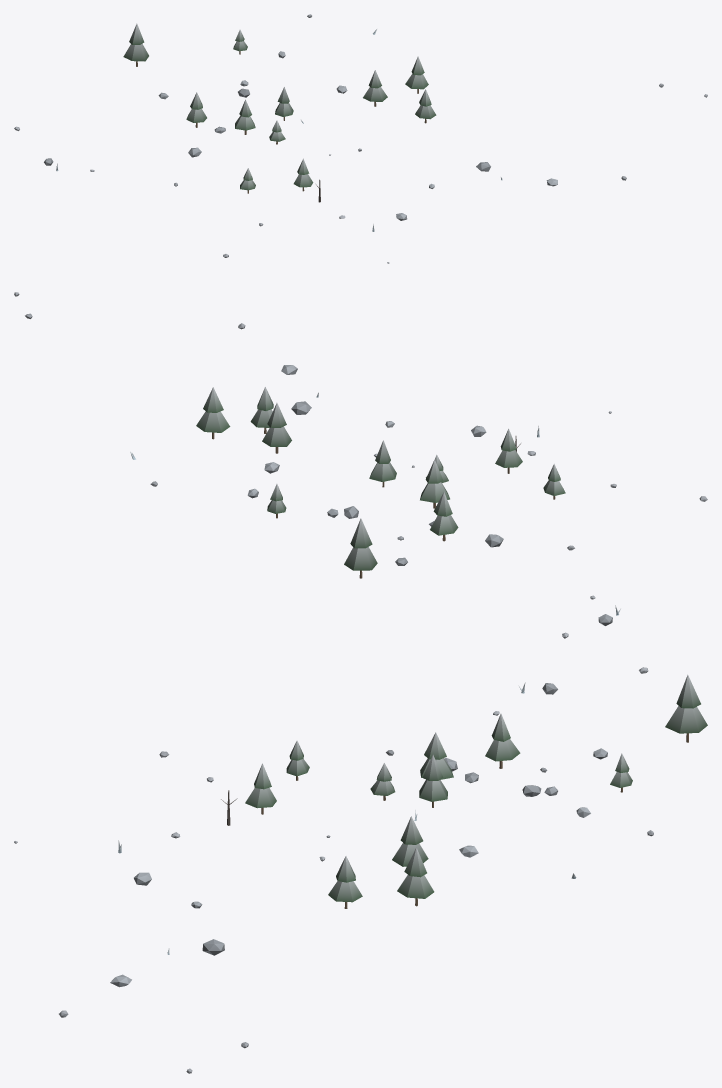
The model's file is frost_land_scatter_c24_10_lod1.glb.
The picture shows the model from 3 angles, top to bottom: view 1: azimuth 30°, elevation 25°; view 2: azimuth 150°, elevation 25°; view 3: azimuth 270°, elevation 25°; orthographic projection. The views are drawn at different scales.
Visible parts, largest first — view 1: frost_land_scatter_c24_10_lod1; view 2: frost_land_scatter_c24_10_lod1; view 3: frost_land_scatter_c24_10_lod1.
Part boxes in pixels (x1=…): frost_land_scatter_c24_10_lod1: x1=14, y1=14, x2=707, y2=263; frost_land_scatter_c24_10_lod1: x1=14, y1=292, x2=707, y2=638; frost_land_scatter_c24_10_lod1: x1=14, y1=667, x2=707, y2=1073.
Bounding box in the file's own units: 185 × 29.68 × 131.
